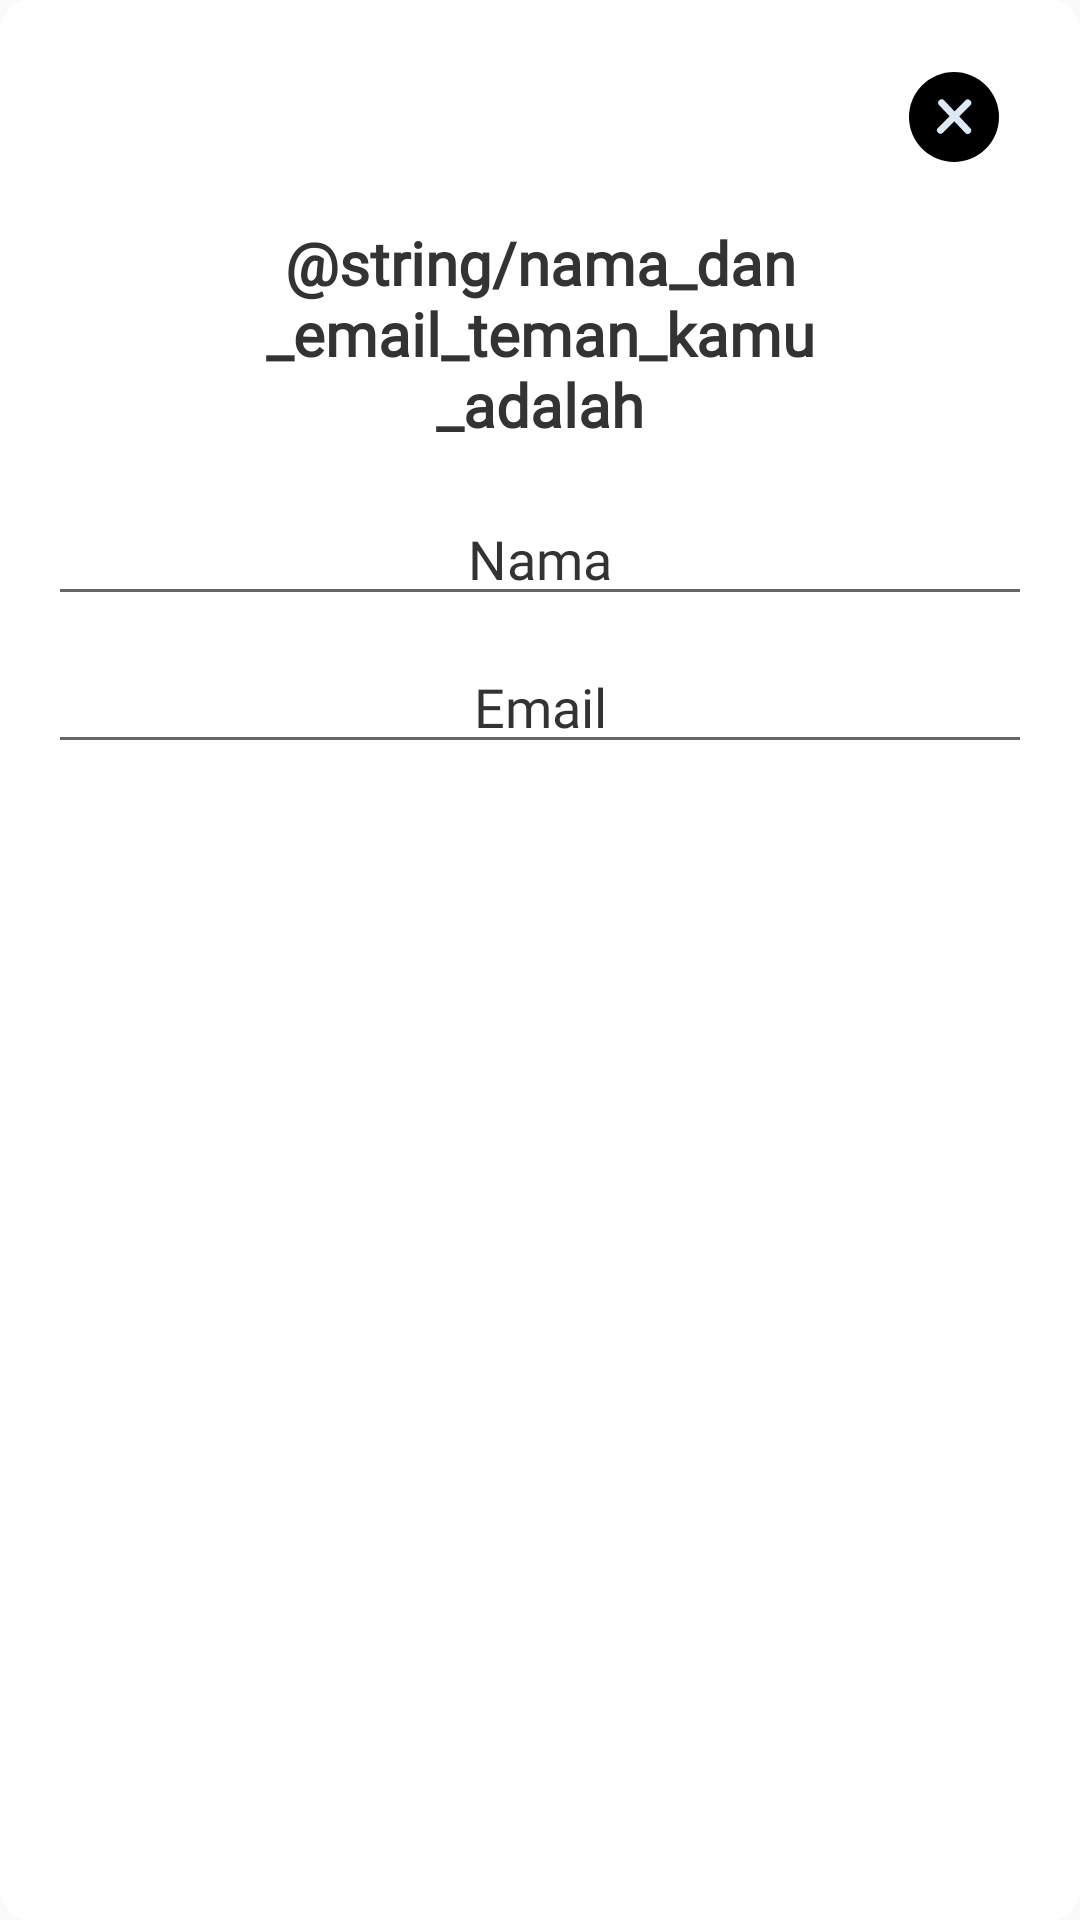

Where to tap for icons on this 1080x1920 app screen, as point (x, y):
close but: point (954, 117)
